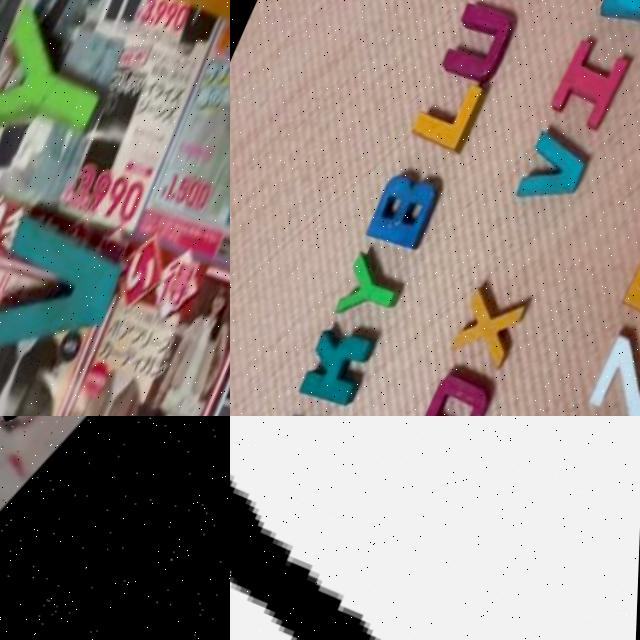B: (365, 163, 447, 255)
I: (230, 470, 388, 640), (546, 28, 635, 128)
K: (298, 321, 379, 409)
L: (408, 64, 493, 158)
O: (416, 360, 502, 416)
P: (591, 0, 640, 30)
U: (437, 0, 523, 90)
V: (0, 202, 136, 377), (517, 127, 593, 212)
X: (452, 280, 531, 367)
Y: (0, 0, 132, 170), (334, 249, 411, 330)
Z: (587, 328, 640, 416)
